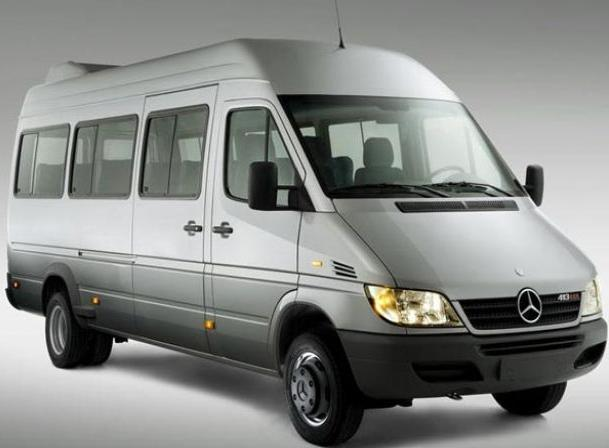front_view: (355, 251, 609, 404)
headlight: (338, 254, 472, 334)
side_glass: (138, 106, 321, 203)
